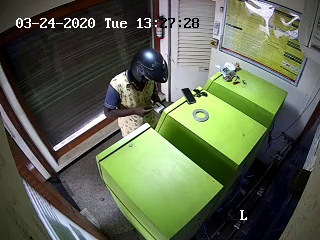helmet: (130, 48, 169, 94)
